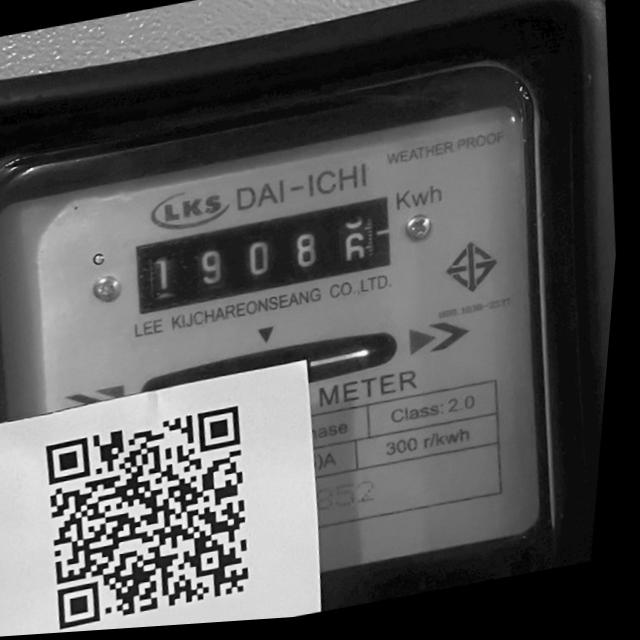qr_code: (20, 394, 273, 635)
